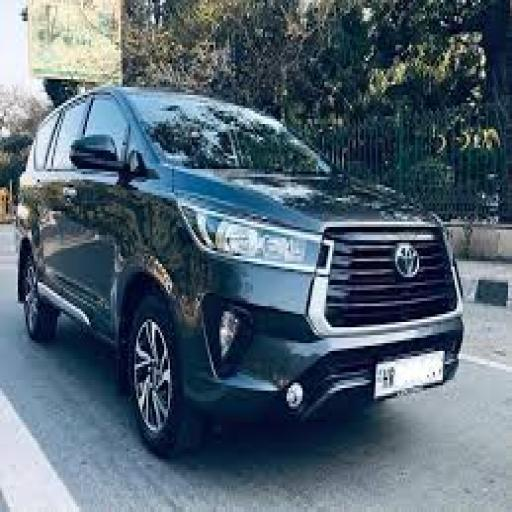car: (14, 72, 479, 460)
